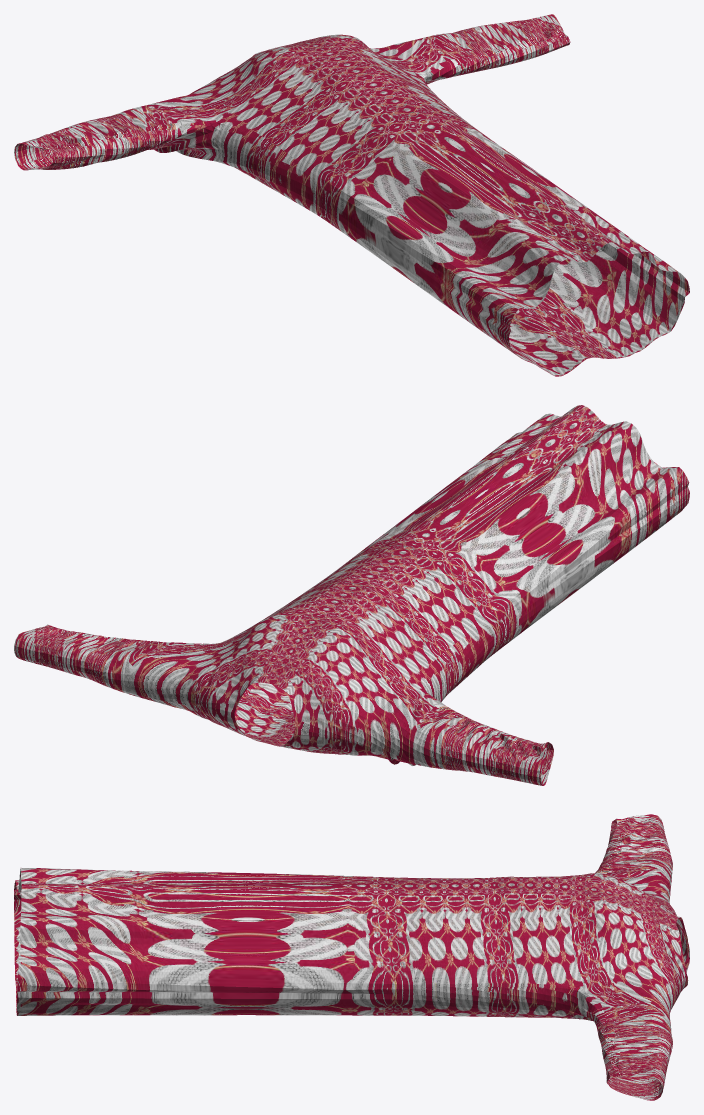
The model's file is garment-b.glb.
The picture shows the model from 3 angles, top to bottom: view 1: azimuth 30°, elevation 25°; view 2: azimuth 150°, elevation 25°; view 3: azimuth 270°, elevation 25°; orthographic projection. The views are drawn at different scales.
Parts seen in each view (by area): view 1: 04_MaleWearables; view 2: 04_MaleWearables; view 3: 04_MaleWearables.
Part boxes in pixels (x1,y1,x2,y2): 04_MaleWearables: (14,14,689,376); 04_MaleWearables: (14,405,689,785); 04_MaleWearables: (14,814,689,1100).
Size of the model in its own units: 5.64 by 1.2 by 6.14.
Materials: 1 (1 with a texture image).
